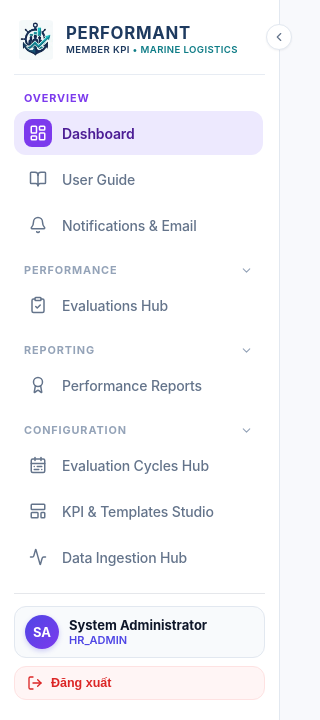
Test: Sidebar Component & Collapsible Sections › collapses section items when section header is clicked
Expected: the text "KPI & Templates Studio" is shown, [62,502,214,520]
# Click Configuration section header to collapse
Click the button "Configuration". click: click(75, 430)
box: [24,423,253,437]
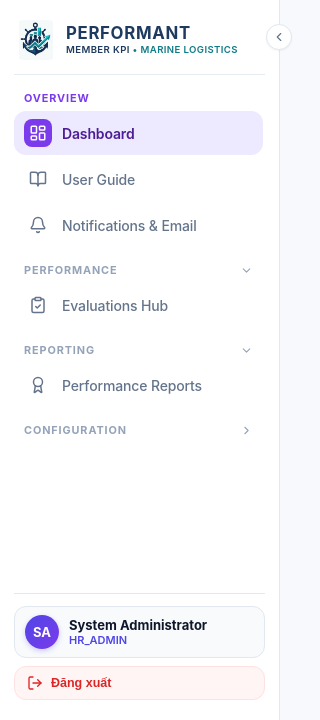
Now the button "KPI & Templates Studio" is gone
# Click again to expand
Click the button "Configuration". click: click(75, 430)
box: [24,423,253,437]
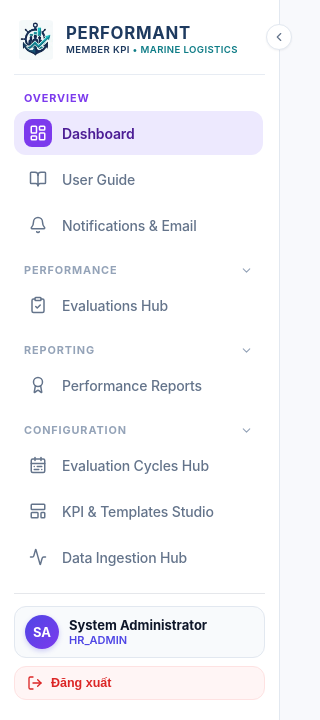
Now the text "KPI & Templates Studio" is shown, box [62,502,214,520]
